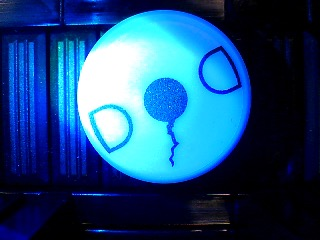CRACK: (77, 10, 252, 184)
